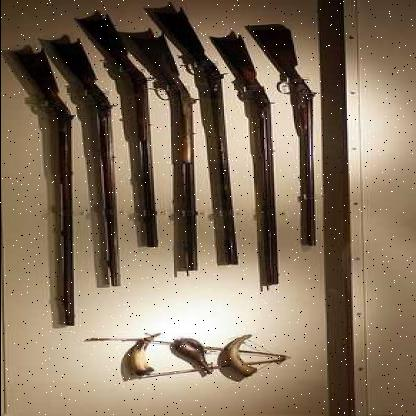rifle: (200, 37, 295, 308), (246, 22, 336, 263)
